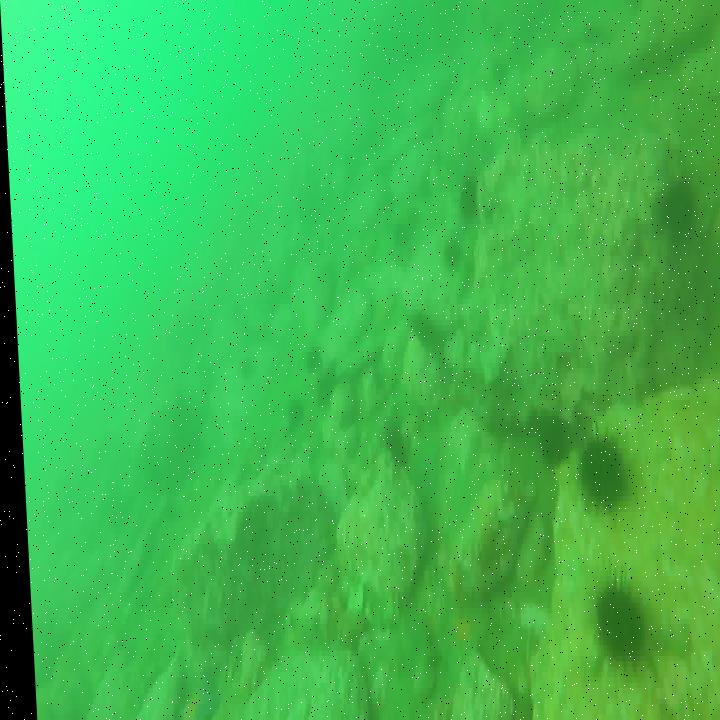echinus: (583, 579, 643, 673), (574, 429, 623, 511), (656, 185, 698, 239), (531, 408, 570, 465), (378, 423, 405, 470), (459, 172, 482, 221), (436, 238, 463, 272), (285, 395, 306, 434), (297, 340, 321, 373), (234, 351, 254, 385)
starfish: (436, 610, 490, 667), (167, 671, 216, 720)
